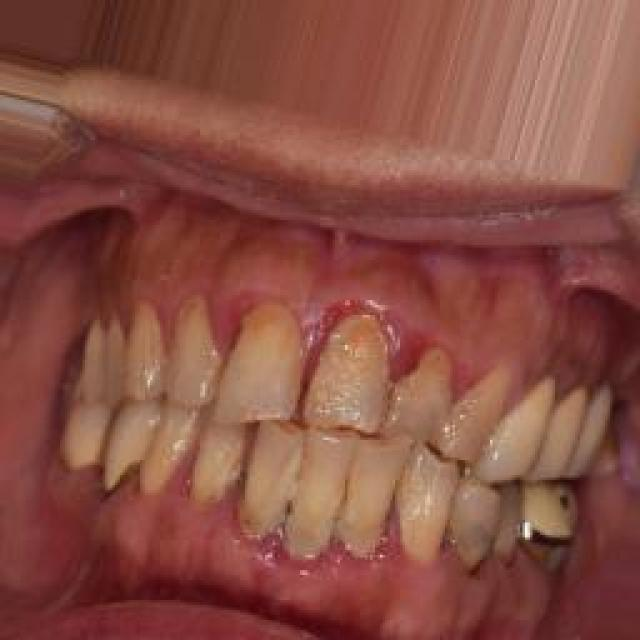decay: (518, 530, 590, 555), (93, 470, 148, 495)
